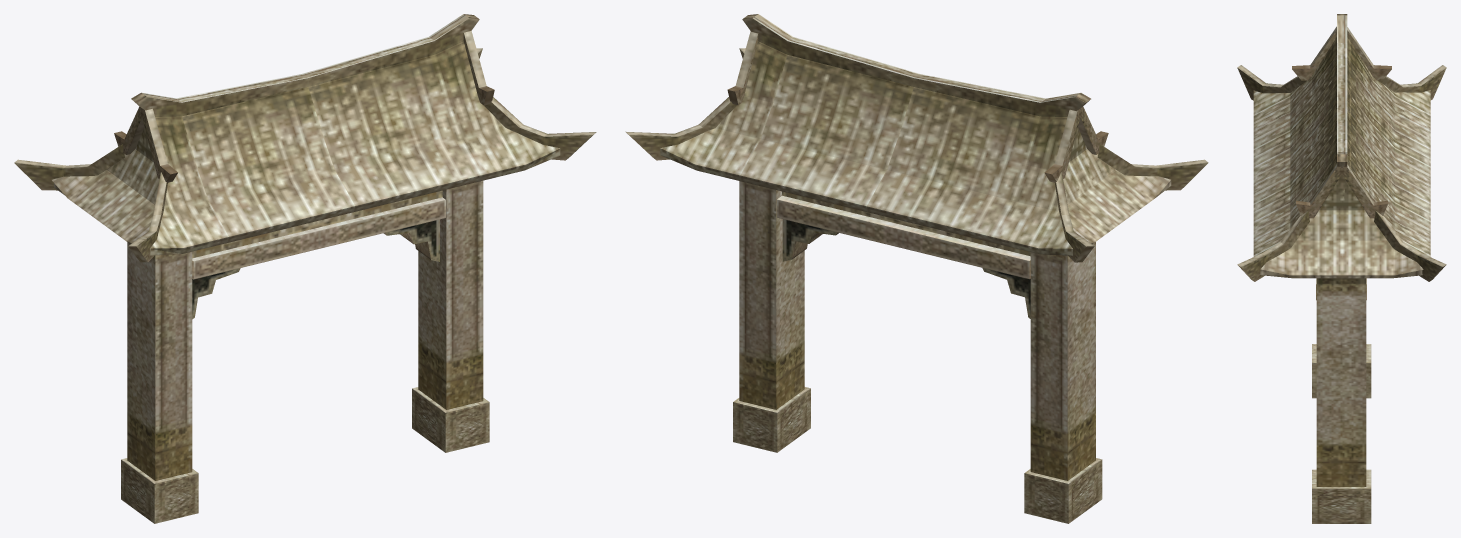
File: general_obj_stonedoor.fbx
3 views of the same model, side by side, from view 1: azimuth 30°, elevation 25°; view 2: azimuth 150°, elevation 25°; view 3: azimuth 270°, elevation 25° (orthographic). The views are drawn at different scales.
Parts seen in each view (by area): view 1: Object05; view 2: Object05; view 3: Object05.
Part boxes in pixels (<box>): Object05: <box>14,14,596,523</box>; Object05: <box>625,14,1208,523</box>; Object05: <box>1237,14,1446,523</box>.
Bounding box in the file's own units: 11.16 × 9.44 × 4.89.
